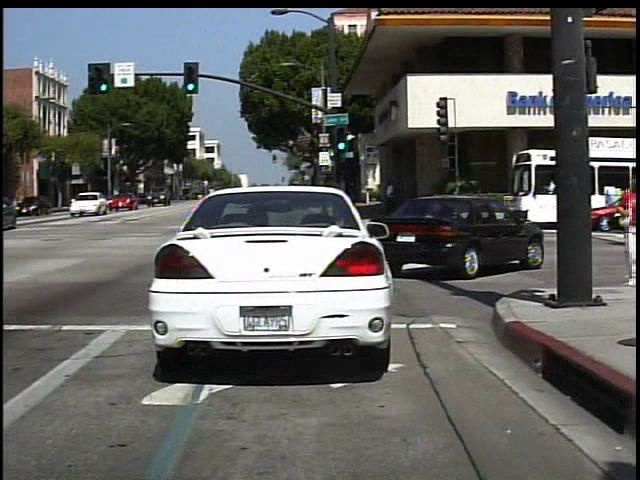person: (614, 167, 639, 288), (382, 176, 400, 217)
